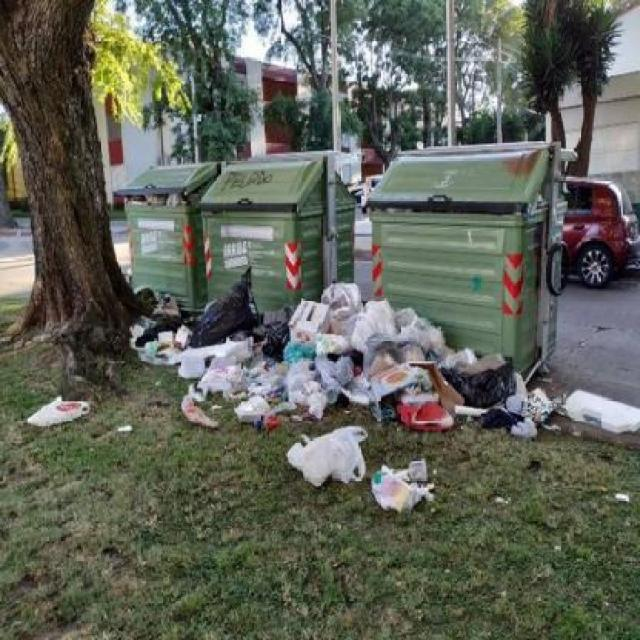garbage: (140, 294, 619, 516), (11, 382, 114, 462), (320, 283, 362, 314), (126, 195, 189, 206)
